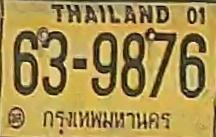3: (42, 30, 68, 95)
6: (179, 32, 206, 98), (12, 30, 38, 95)
7: (147, 28, 176, 98)
8: (120, 32, 145, 96)
9: (91, 32, 117, 96)
BKK: (36, 105, 174, 136)
